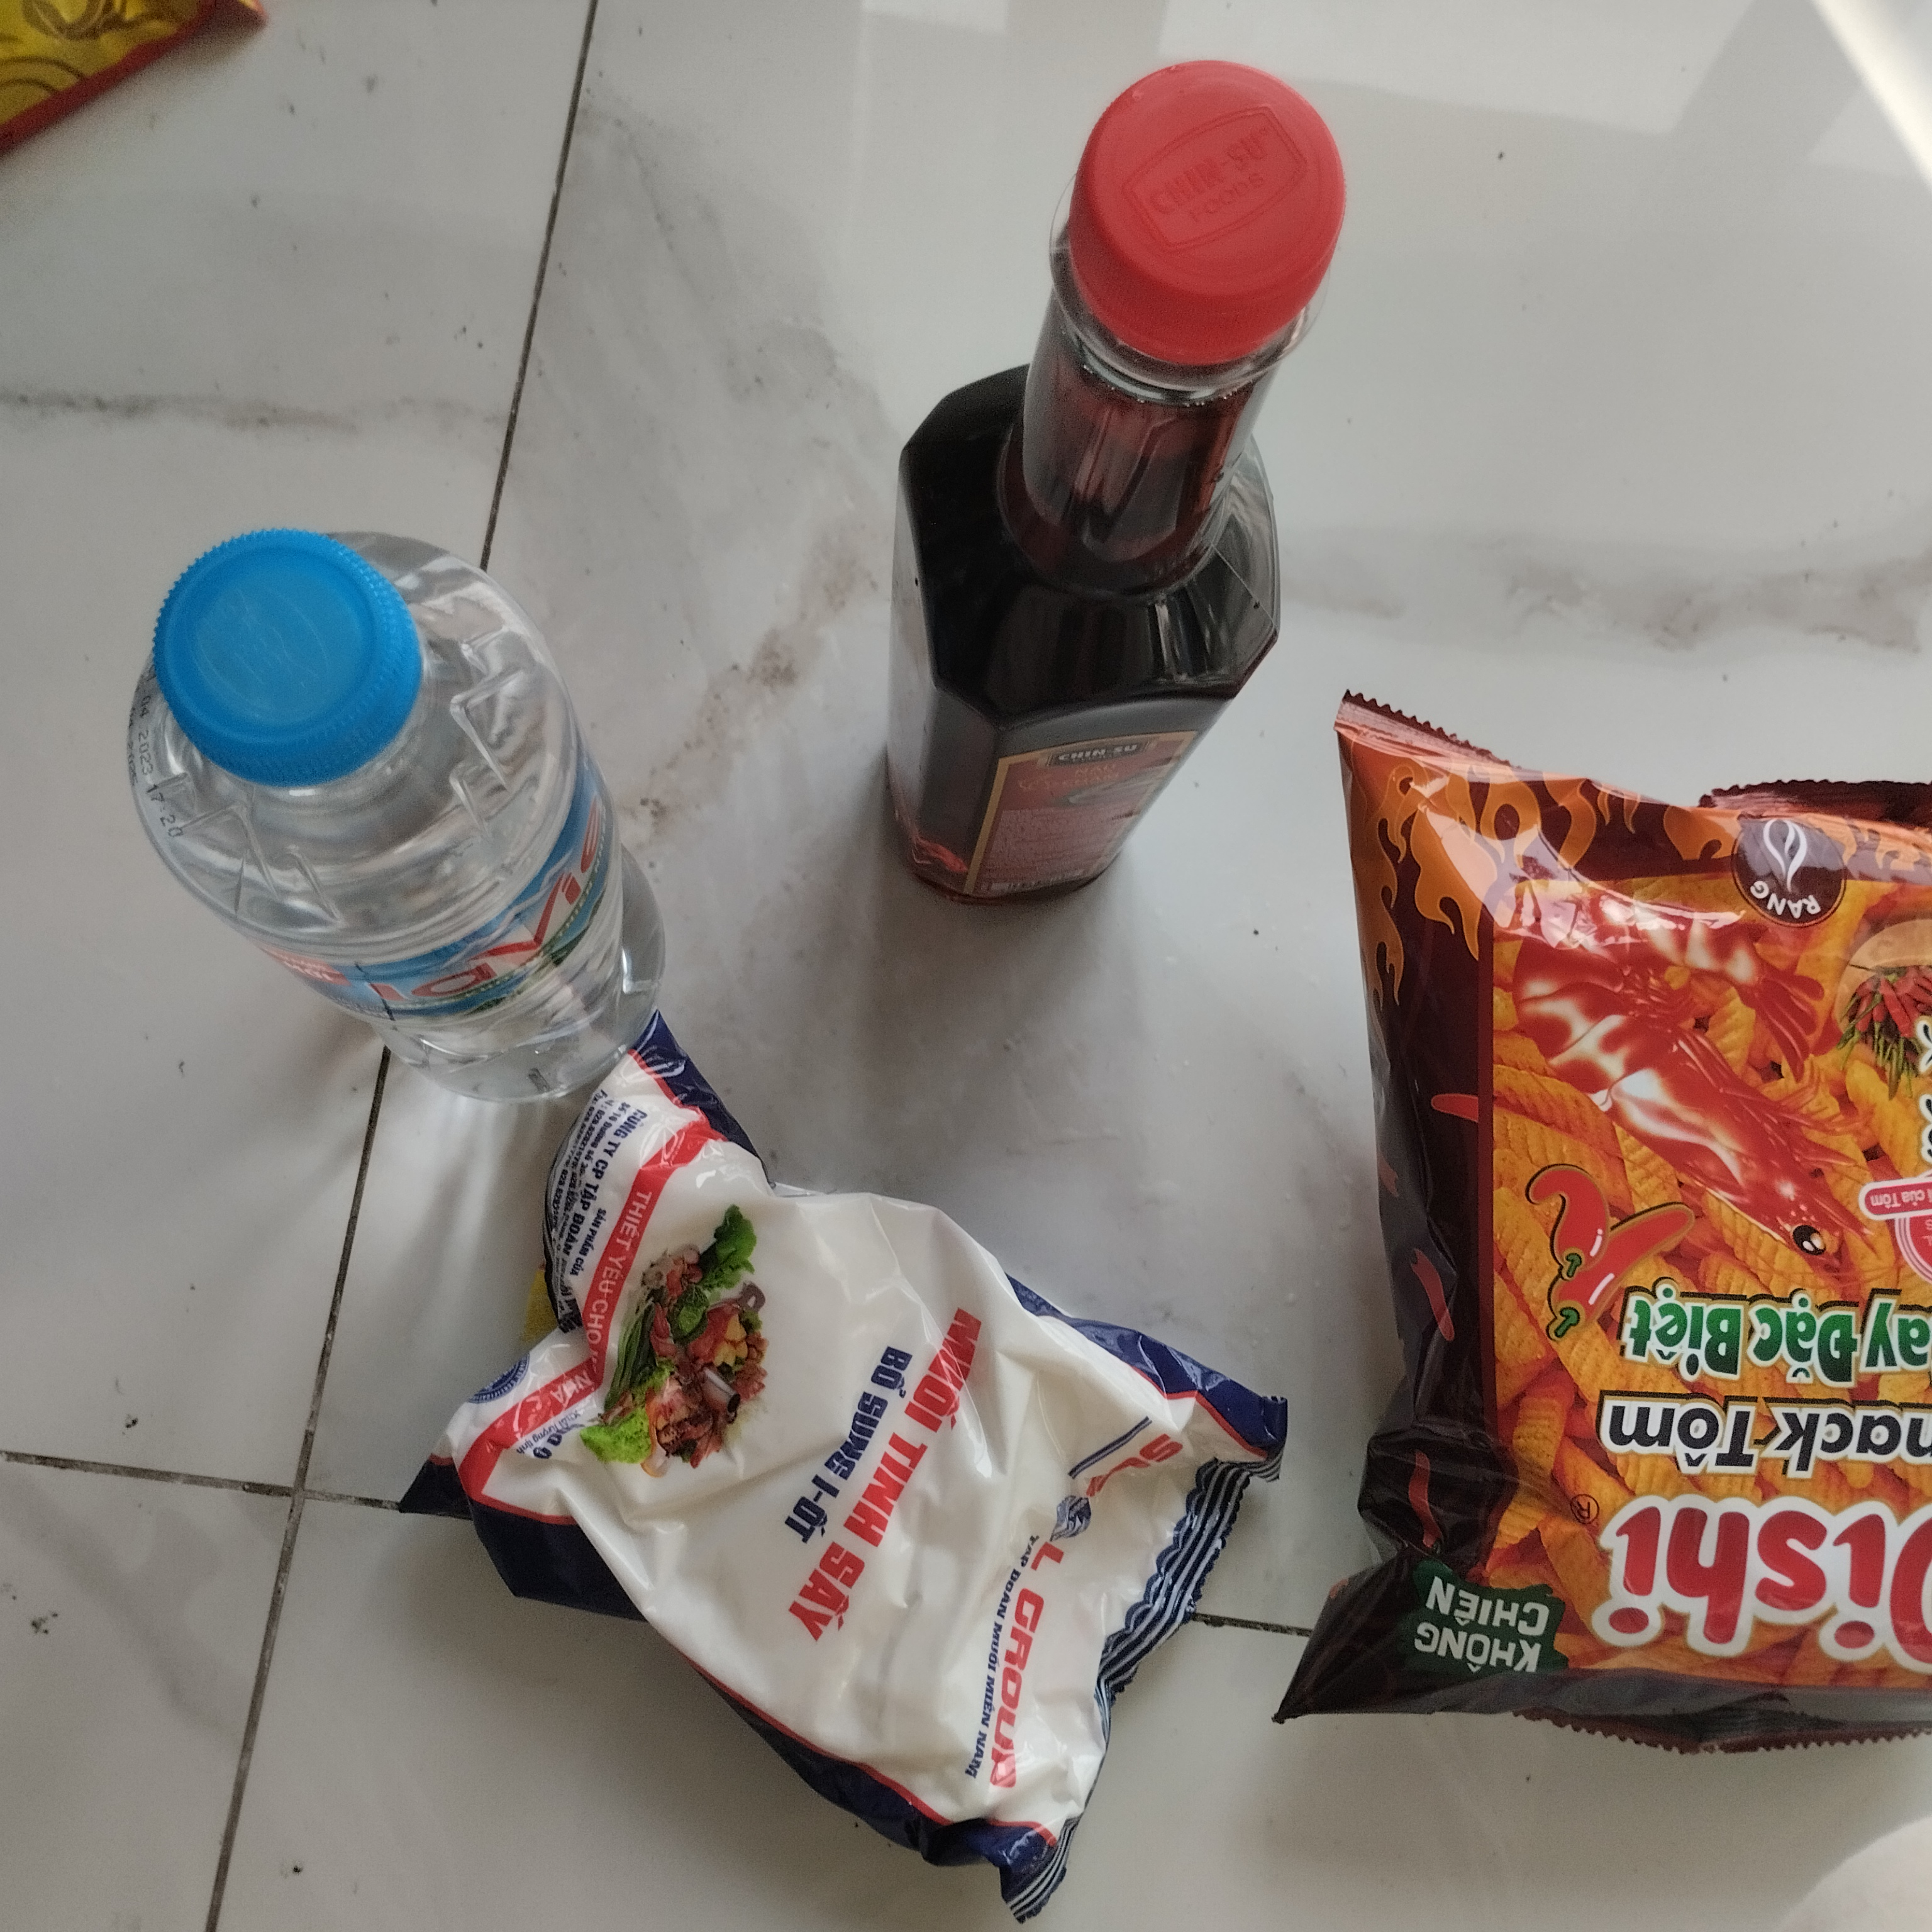Lavie: (110, 517, 676, 1104)
Namngu: (879, 55, 1361, 954)
Oishi_Cay: (1274, 694, 1932, 1769)
Salt: (375, 1017, 1295, 1932)
